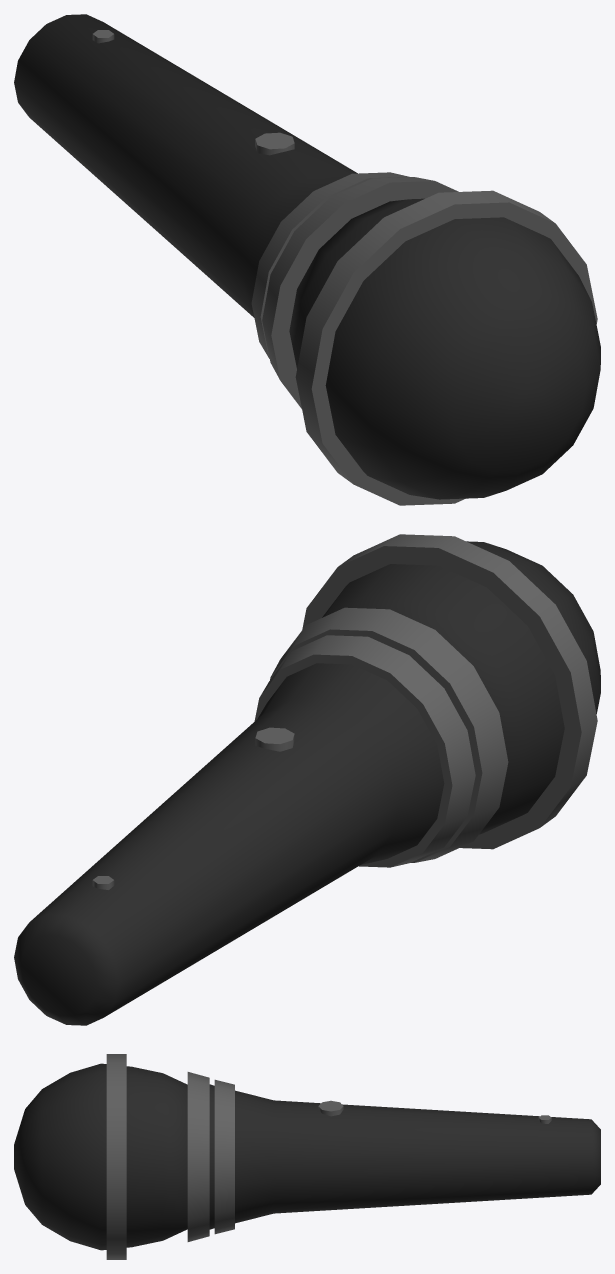
Rendered from Microphone_01.fbx.
3 renders of one model, top to bottom at view 1: azimuth 30°, elevation 25°; view 2: azimuth 150°, elevation 25°; view 3: azimuth 270°, elevation 25°, orthographic. The views are drawn at different scales.
Visible parts, largest first — view 1: Microphone_01; view 2: Microphone_01; view 3: Microphone_01.
Part boxes in pixels (x1,y1,x2,y2): Microphone_01: (14,14,600,505); Microphone_01: (14,534,600,1025); Microphone_01: (14,1054,600,1259).
Size of the model in its own units: 0.1034 by 0.1034 by 0.2945.
